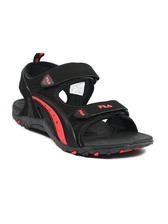shoes: (11, 50, 157, 159)
